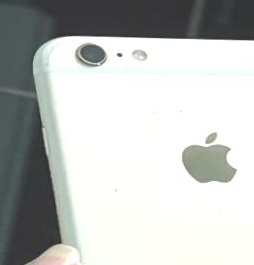scratch: (34, 36, 131, 78), (138, 99, 198, 142), (97, 172, 169, 197)
